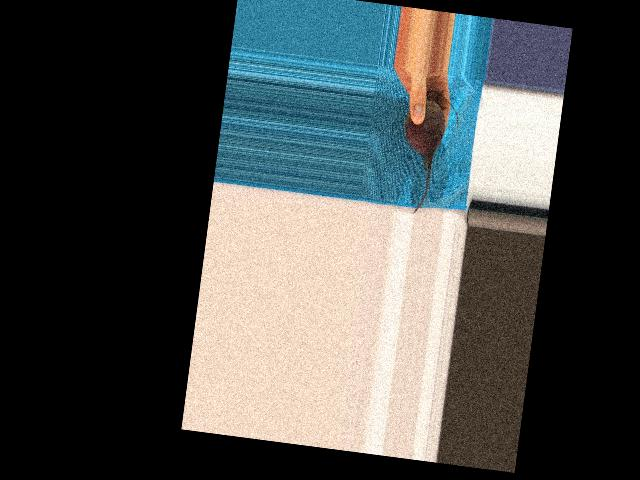beet: (393, 87, 461, 218)
